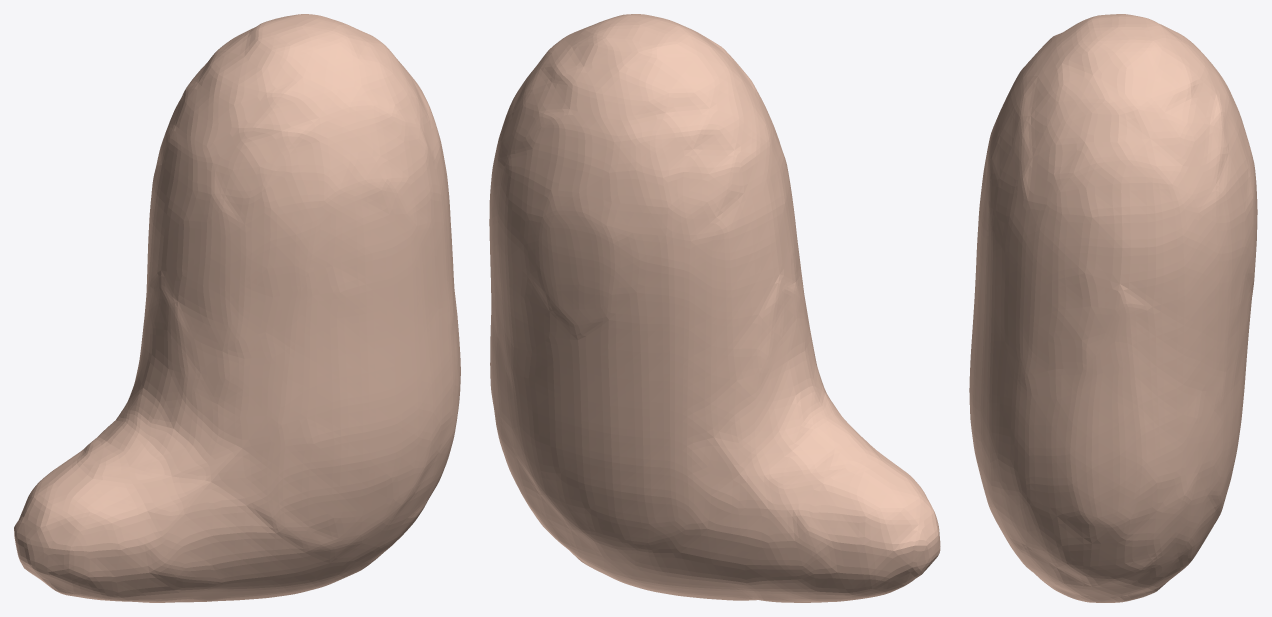
The model's file is organ-stomach.glb.
3 views of the same model, side by side, from view 1: azimuth 30°, elevation 25°; view 2: azimuth 150°, elevation 25°; view 3: azimuth 270°, elevation 25° (orthographic). The views are drawn at different scales.
Parts seen in each view (by area): view 1: geometry_0; view 2: geometry_0; view 3: geometry_0.
Boxes of the visible parts, box(x1,y1,x2,y2) form: geometry_0: box(14, 14, 460, 602); geometry_0: box(489, 14, 940, 602); geometry_0: box(969, 14, 1257, 602).
Bounding box in the file's own units: 0.1854 × 0.2291 × 0.1053.
